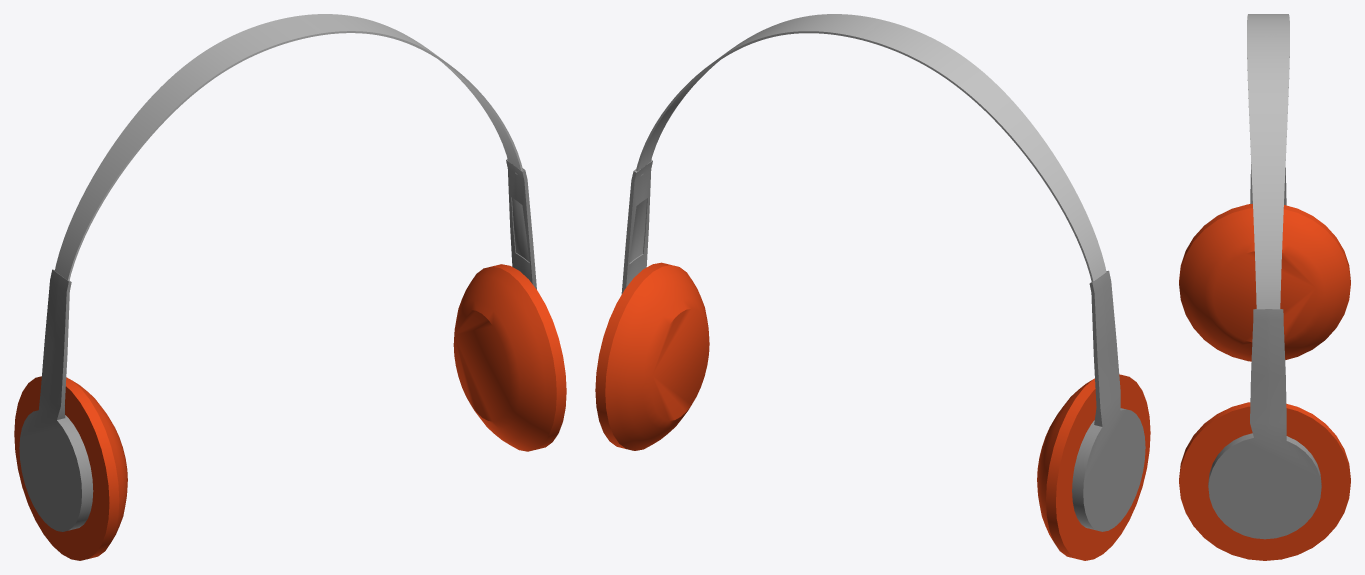
The picture shows the model from 3 angles, left to right: view 1: azimuth 30°, elevation 25°; view 2: azimuth 150°, elevation 25°; view 3: azimuth 270°, elevation 25°; orthographic projection. The views are drawn at different scales.
Visible parts, largest first — view 1: Circle.006; view 2: Circle.006; view 3: Circle.006.
Part boxes in pixels (left/top/right/bottom): Circle.006: left=14, top=14, right=566, bottom=560; Circle.006: left=595, top=14, right=1150, bottom=560; Circle.006: left=1179, top=14, right=1350, bottom=560.
Bounding box in the file's own units: 128 × 119 × 43.63.
